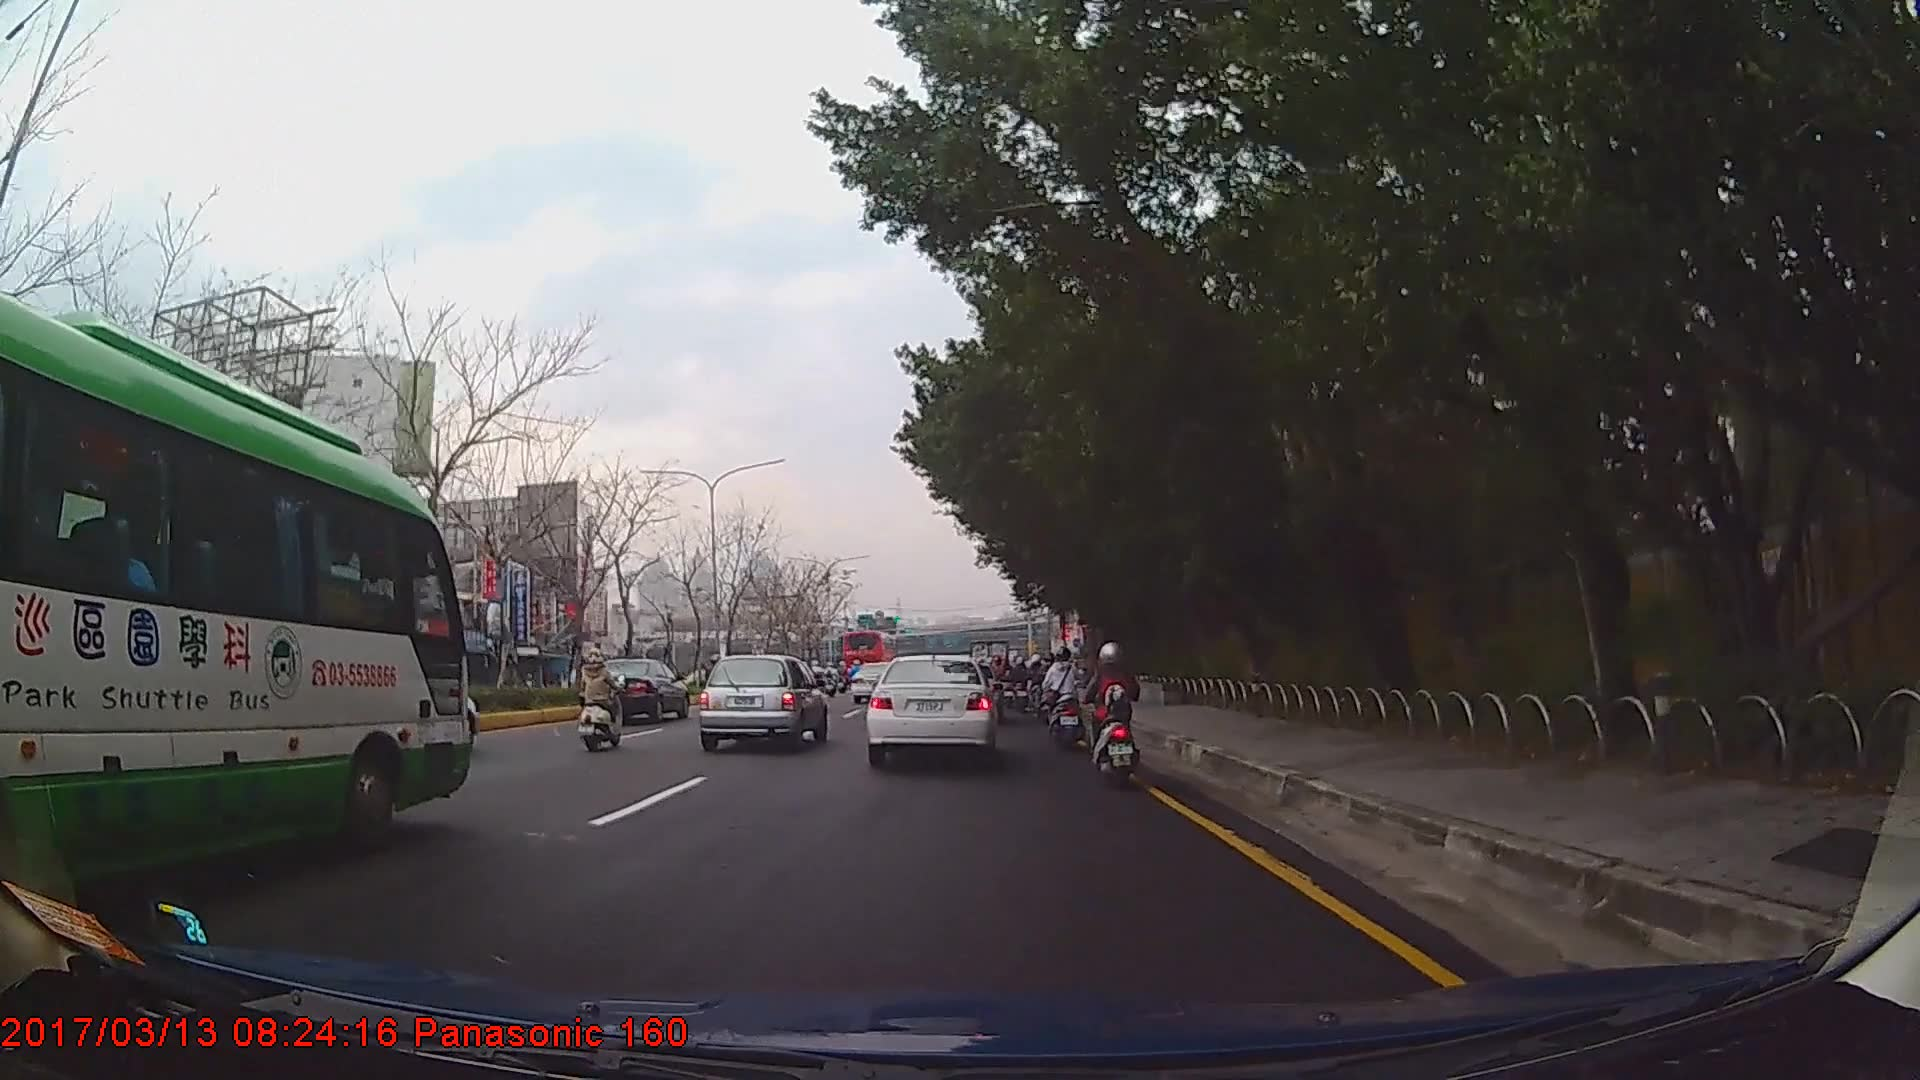rider: (1089, 641, 1146, 788), (582, 648, 626, 755), (1046, 646, 1089, 753), (1040, 654, 1062, 739)
vehicle: (0, 284, 473, 903), (864, 657, 999, 764), (695, 652, 830, 752), (582, 659, 690, 728), (842, 629, 900, 685)
